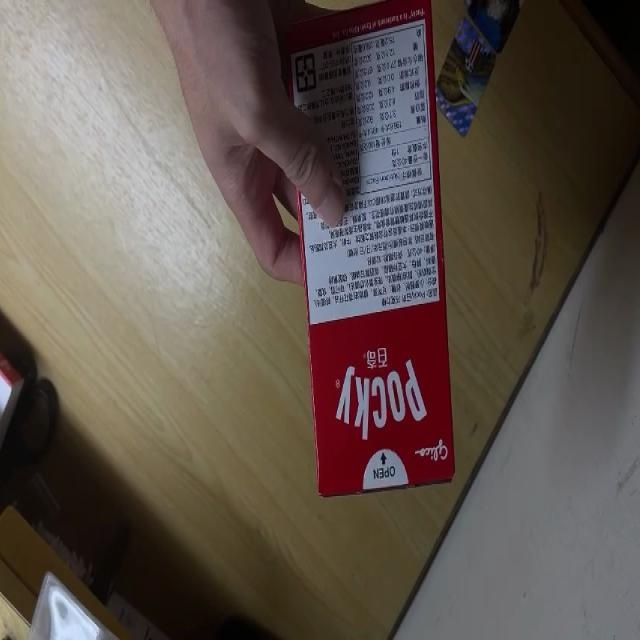Pocky: (278, 0, 456, 499)
